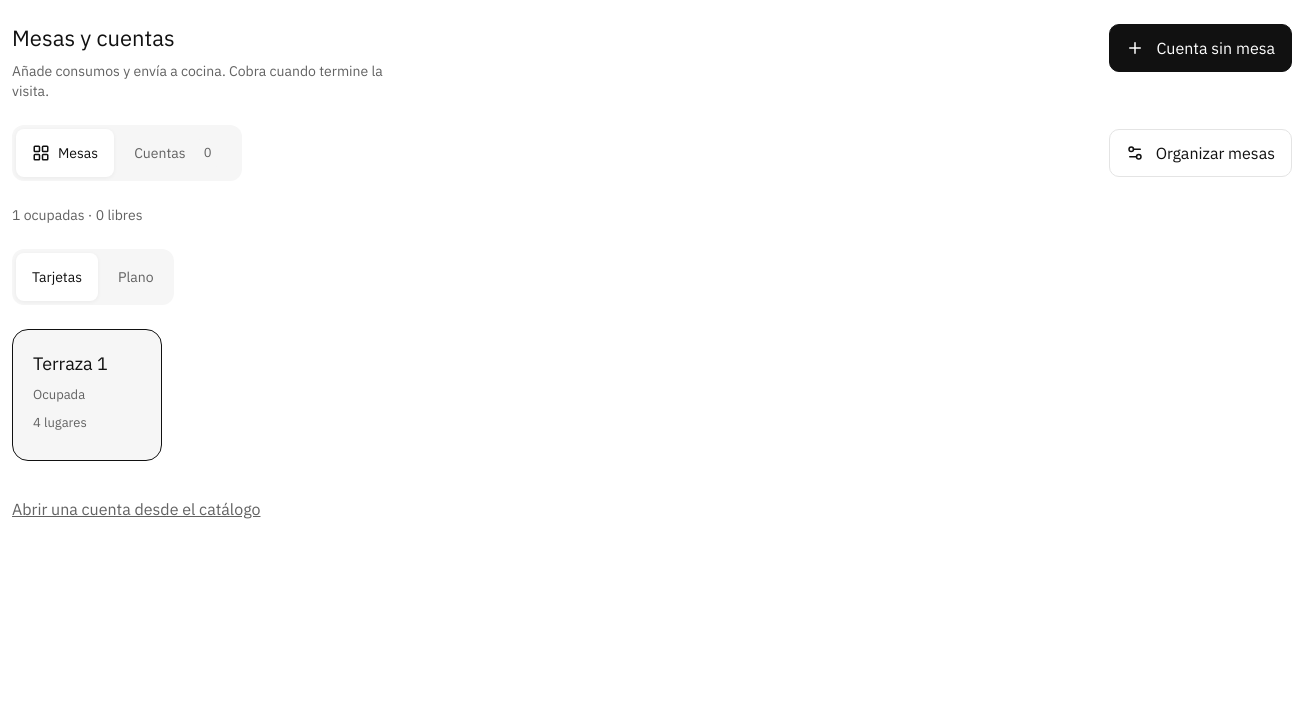
Test: a table with an unloaded account cannot accidentally open a second account
Click the button "Terraza 1 Ocupada 4 lugares".
click(87, 396)  # box [12,330,162,462]
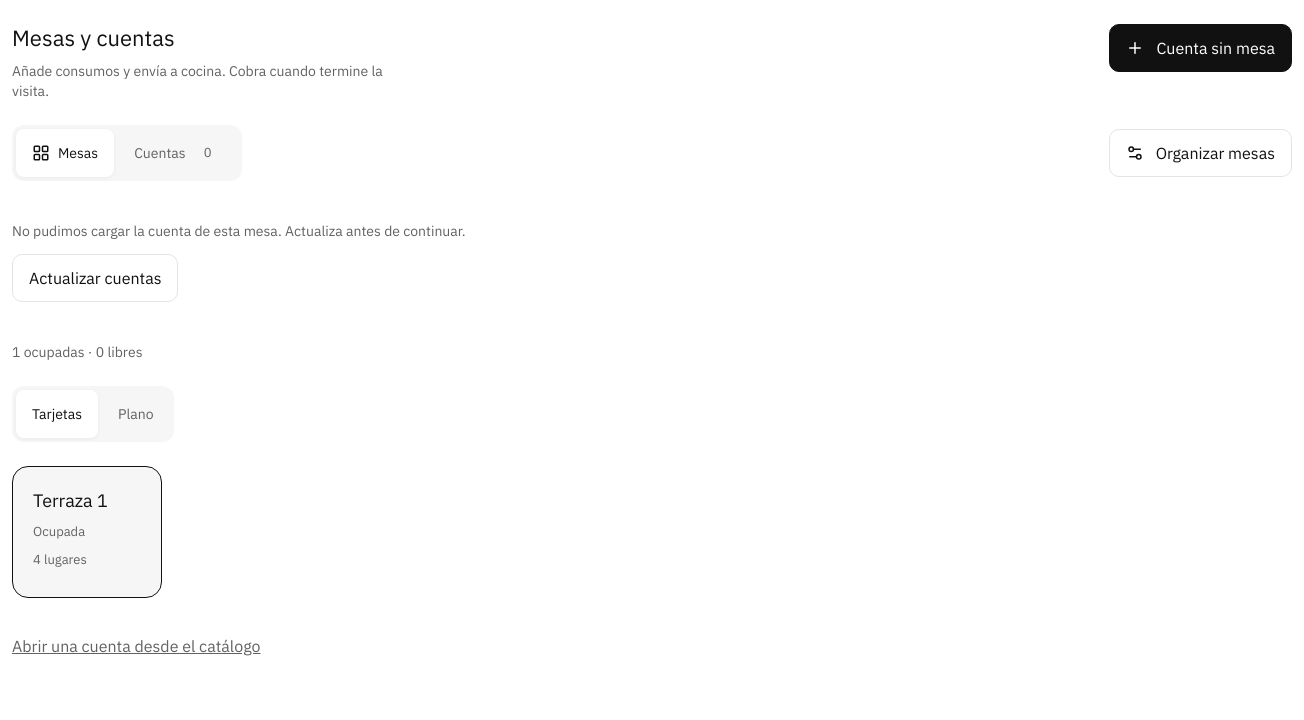
Check: the message shows "Actualiza antes de continuar", box [12,222,466,240]
